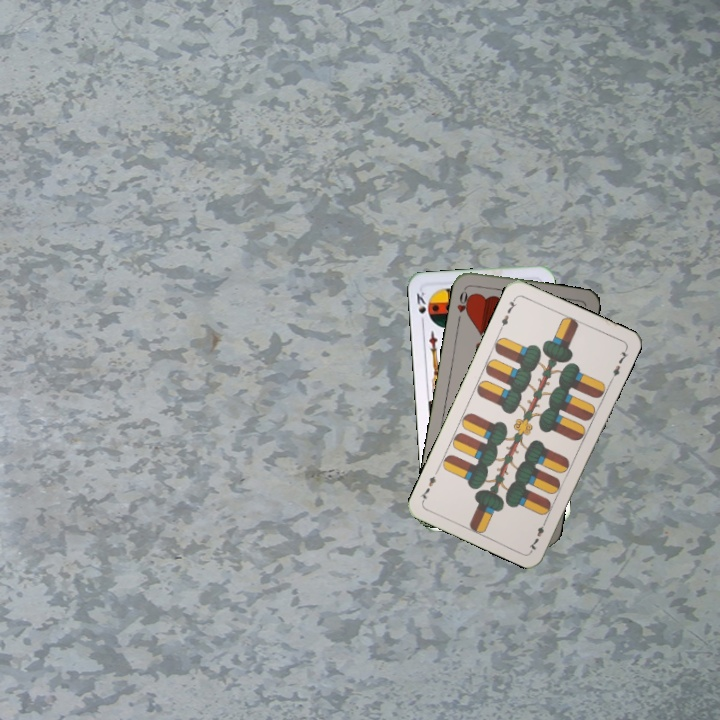E7: (525, 515, 550, 553), (496, 294, 520, 332)
HO: (453, 284, 474, 324)
SK: (412, 288, 428, 327)
